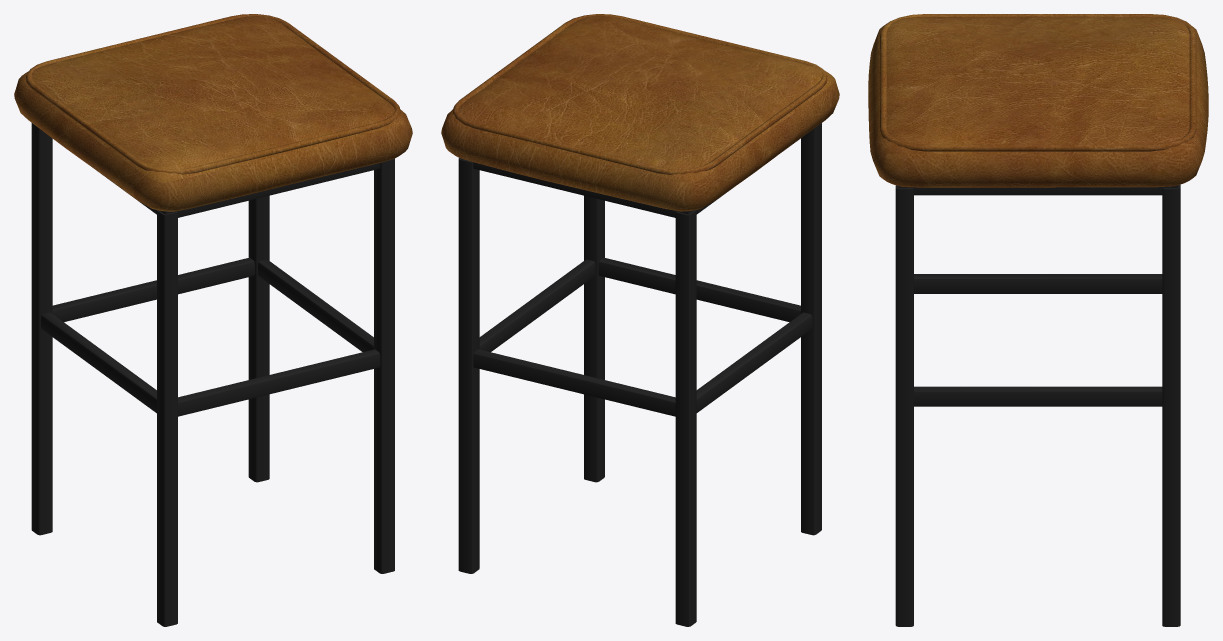
Rendered from taburete_tapizado_sin_respaldo_65.glb.
3 views of the same model, side by side, from view 1: azimuth 30°, elevation 25°; view 2: azimuth 150°, elevation 25°; view 3: azimuth 270°, elevation 25° (orthographic). The views are drawn at different scales.
Parts seen in each view (by area): view 1: taburete_tapizado_sin_respaldo_65; view 2: taburete_tapizado_sin_respaldo_65; view 3: taburete_tapizado_sin_respaldo_65.
Boxes of the visible parts, box(x1,y1,x2,y2) form: taburete_tapizado_sin_respaldo_65: box(14, 14, 412, 626); taburete_tapizado_sin_respaldo_65: box(441, 14, 839, 626); taburete_tapizado_sin_respaldo_65: box(868, 14, 1208, 626).
Bounding box in the file's own units: 0.4077 × 0.662 × 0.4089.
Materials: 2 (1 with a texture image).
